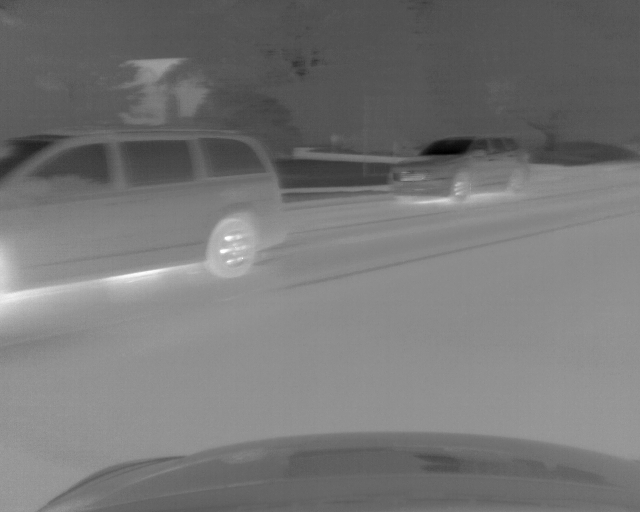car: (3, 126, 289, 294), (388, 135, 534, 202)
